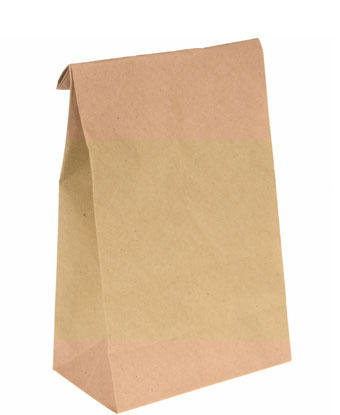Rec_Paper: (47, 28, 312, 407)
